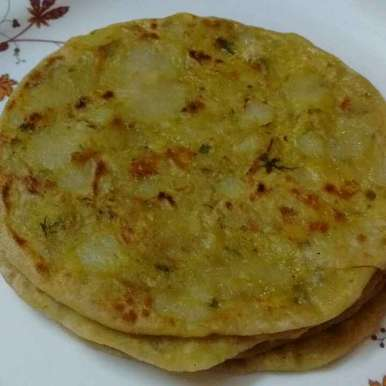aloo_paratha: (1, 16, 384, 372)
